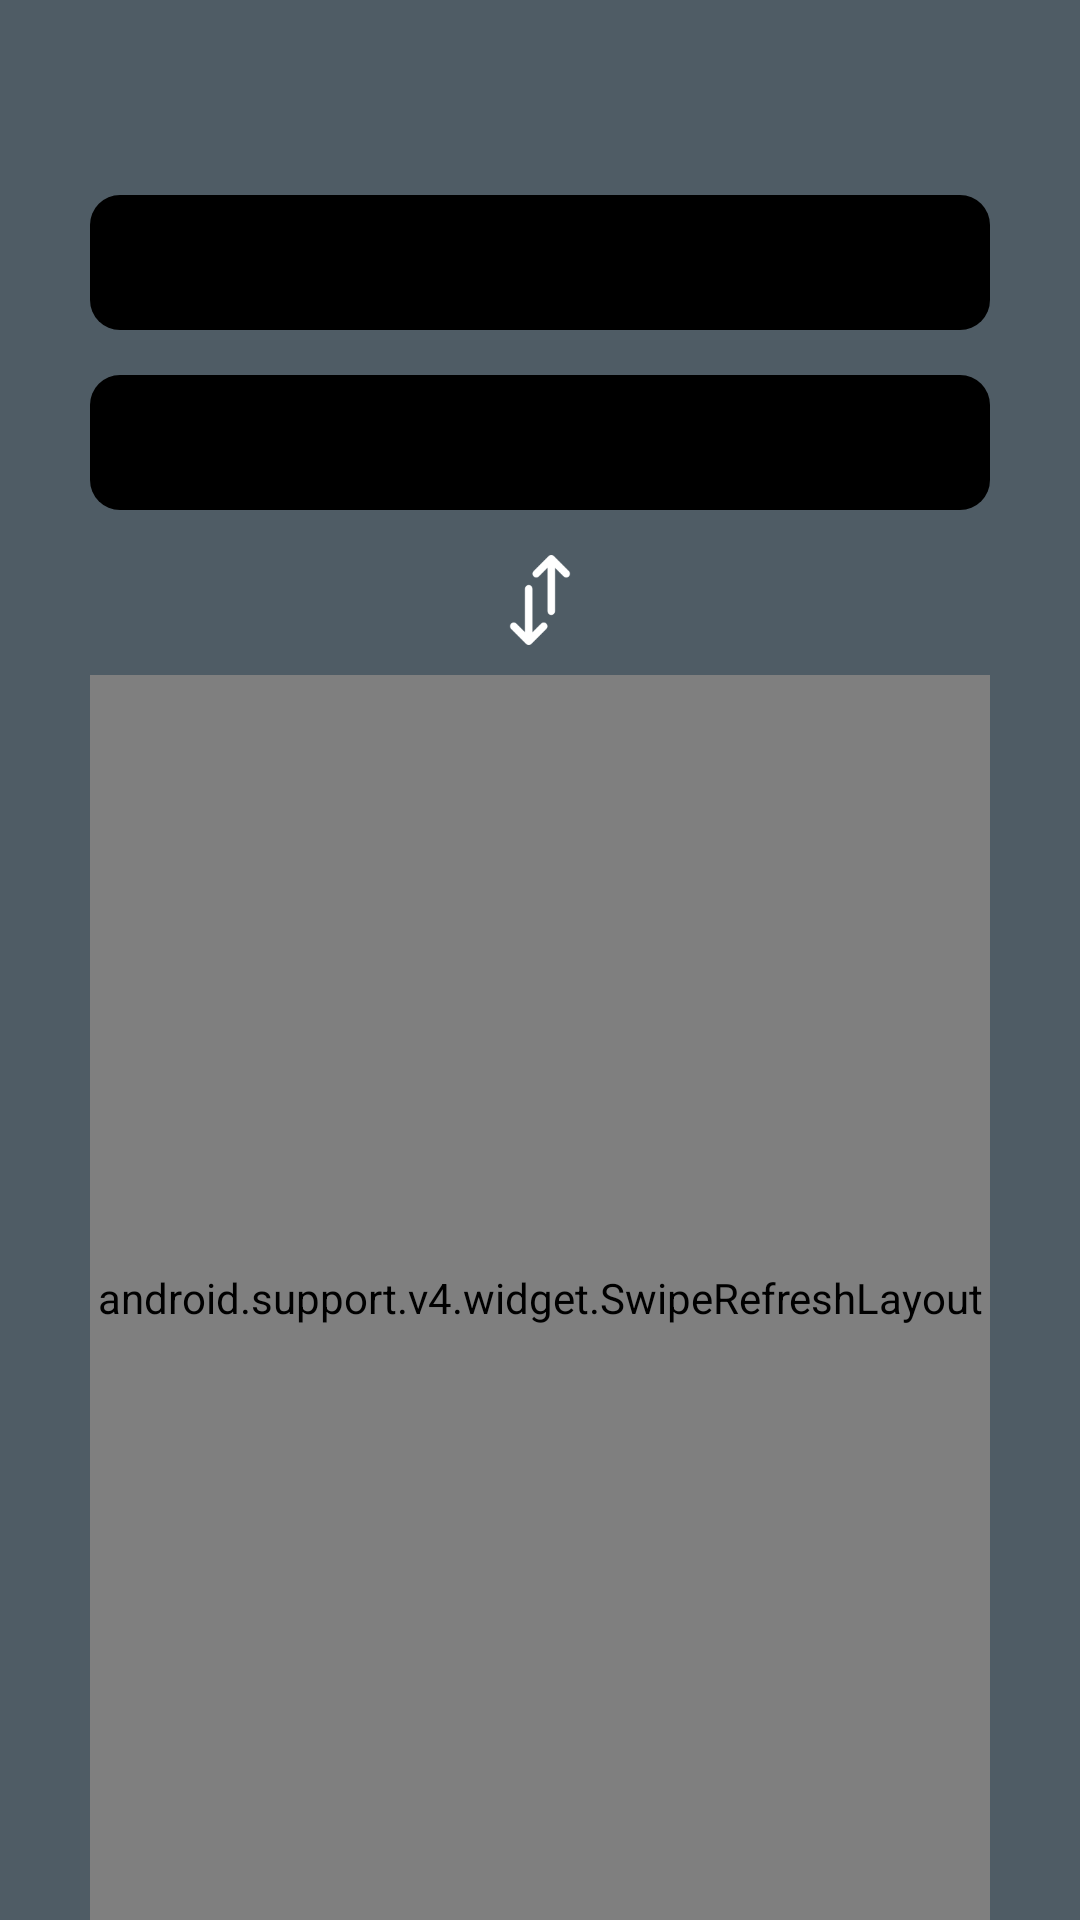

Where to tap for icons on this 1080 × 1920 app screen, as [x,y]:
swap: [540,600]
